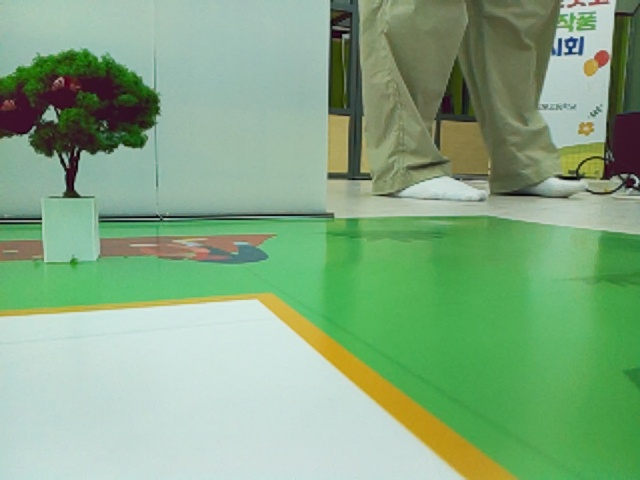apple: (54, 76, 81, 92), (595, 51, 609, 66)
